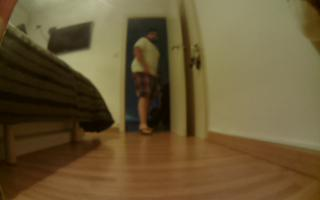person: (126, 25, 166, 138)
